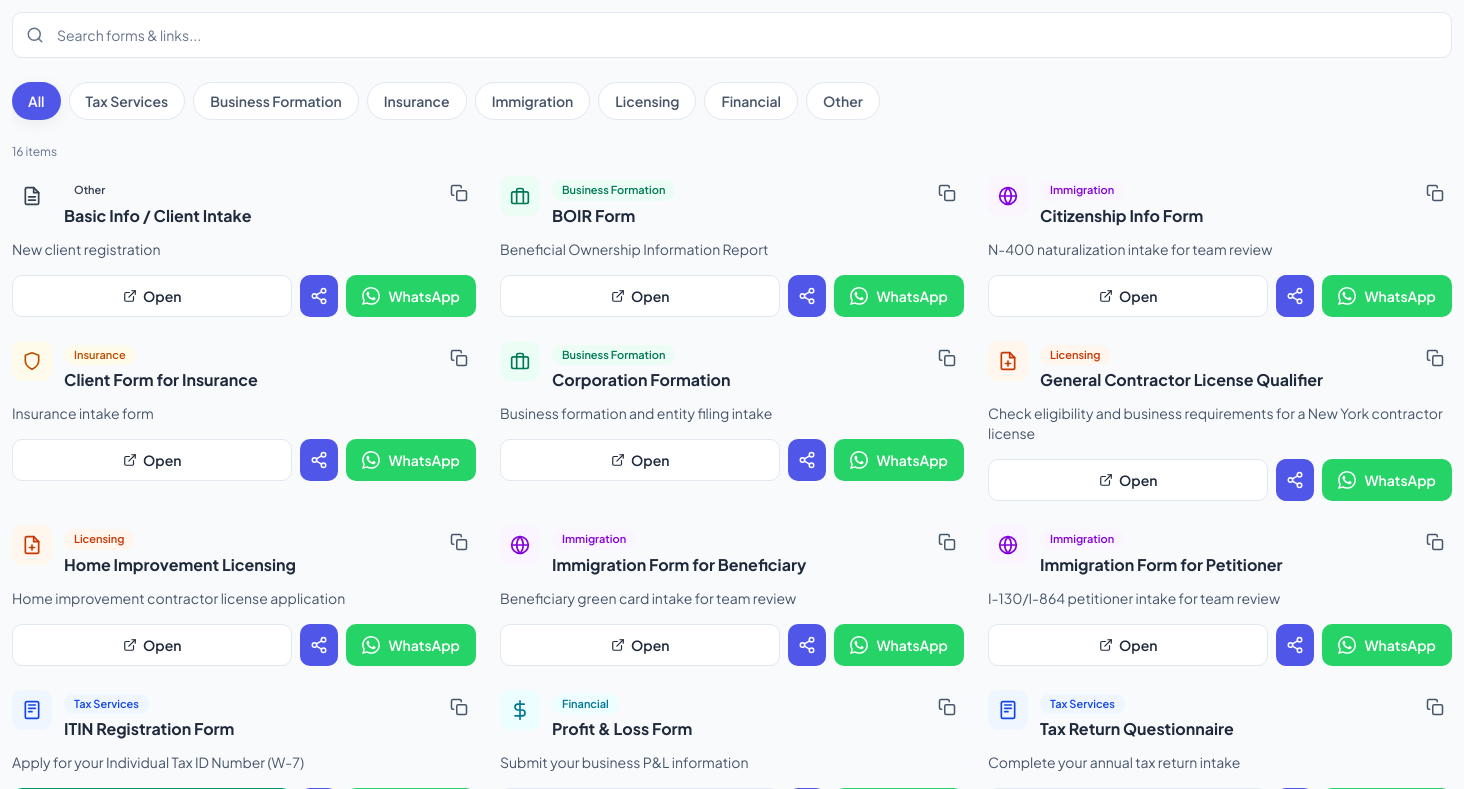
Scenario: FormsGrid › filters forms by category and search term
expect the text "16 items" is shown: met, box [12,144,57,159]
Click the button "Tax Services": click(127, 101) [69,82,185,120]
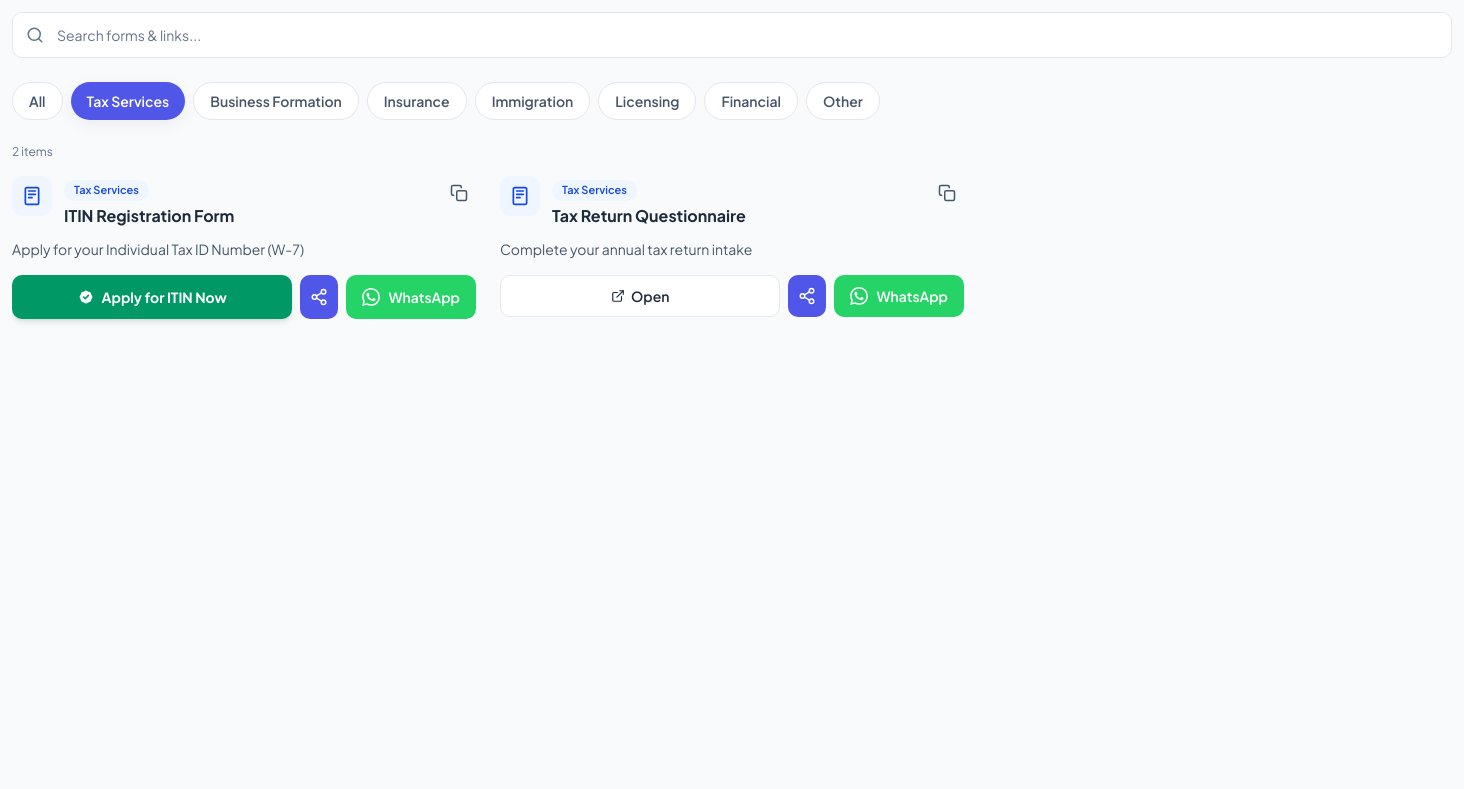
expect the heading "Tax Return Questionnaire" is shown: met, box [552,204,746,226]
In the field with placeholder "Search forms & links...": (732, 35) [12,12,1452,58], type "questionnaire"
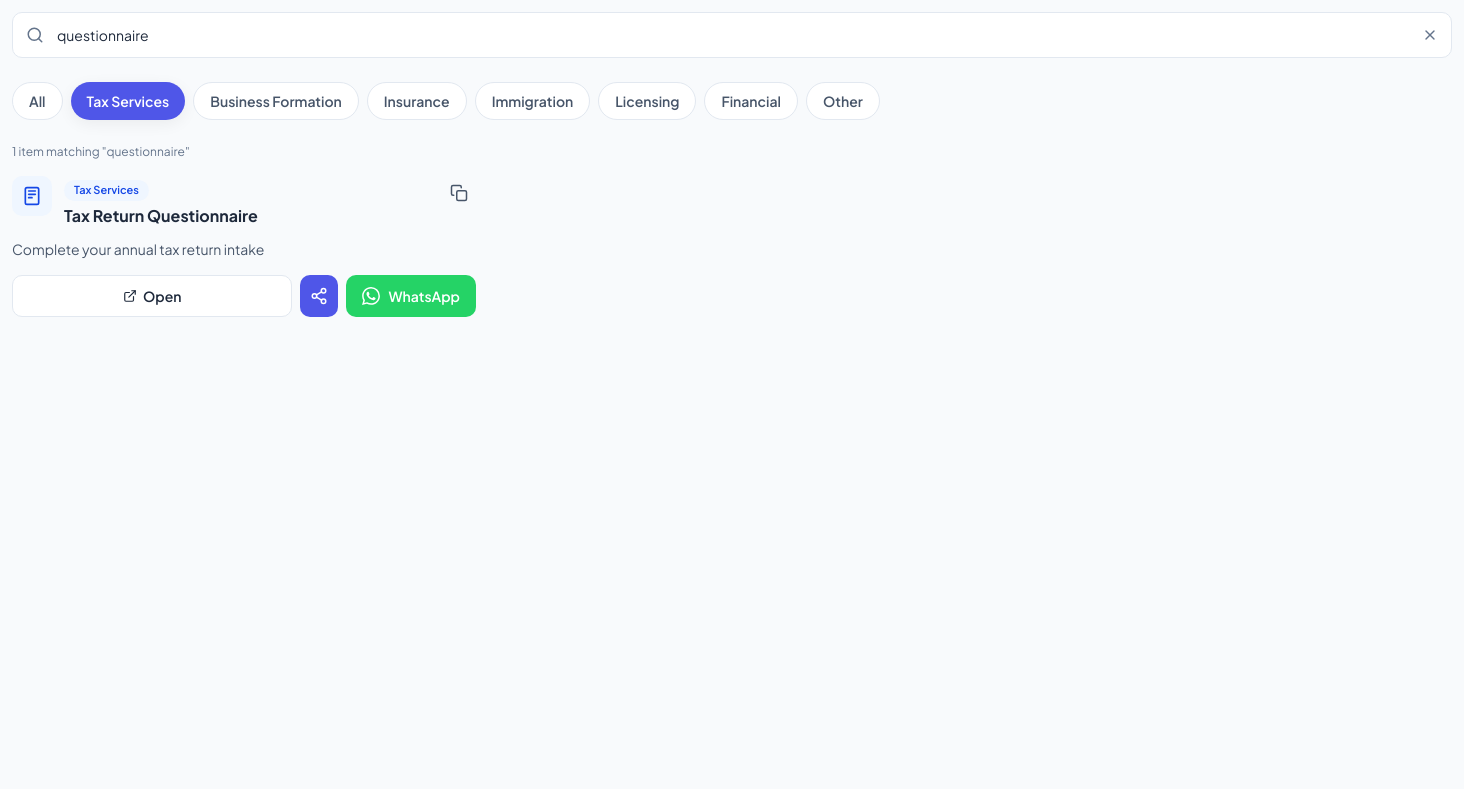
expect the heading "Tax Return Questionnaire" is shown: met, box [64,204,258,226]
expect the text "1 item matching \"questionnaire\"" is shown: met, box [12,144,190,159]
expect the heading "ITIN Registration Form" is gone: met
